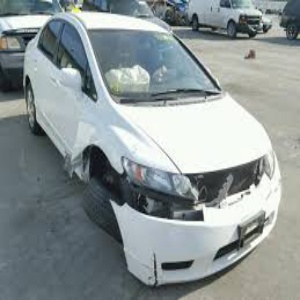bumper: (108, 200, 215, 286)
